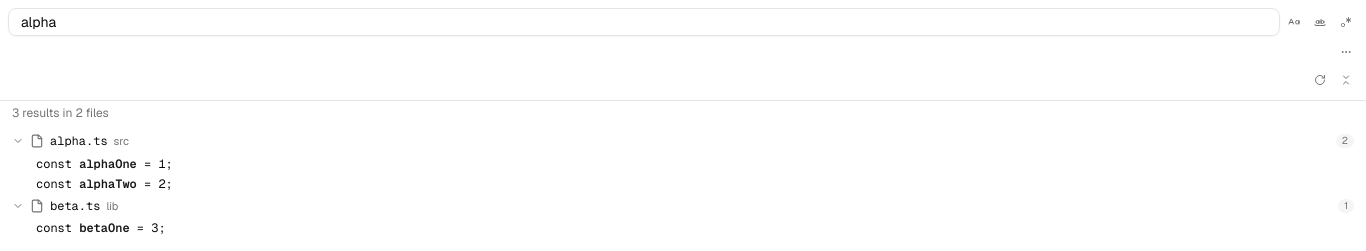
it: SearchPanel results › hides a file's match rows when its header is collapsed
Expected: the text "3 results in 2 files" is shown, 12,105 -> 109,121
Click the button "alpha.ts src 2".
click(79, 141)  # box 4,129 -> 1362,154
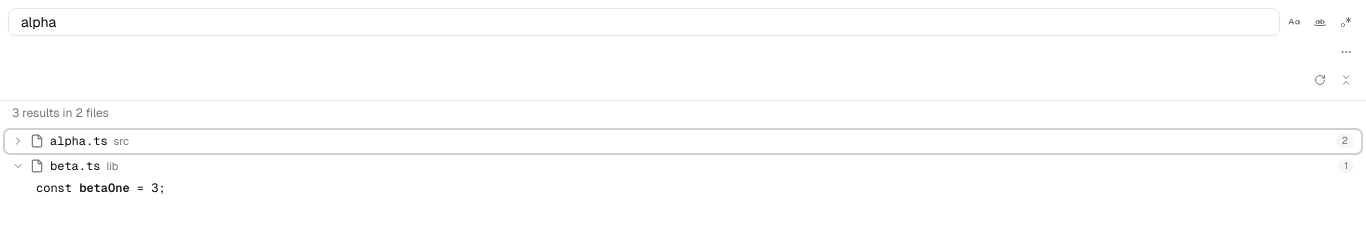
Expected: the text "betaOne" is shown, 79,180 -> 130,196
Expected: the button "alphaOne" is gone
Expected: the button "alphaTwo" is gone
